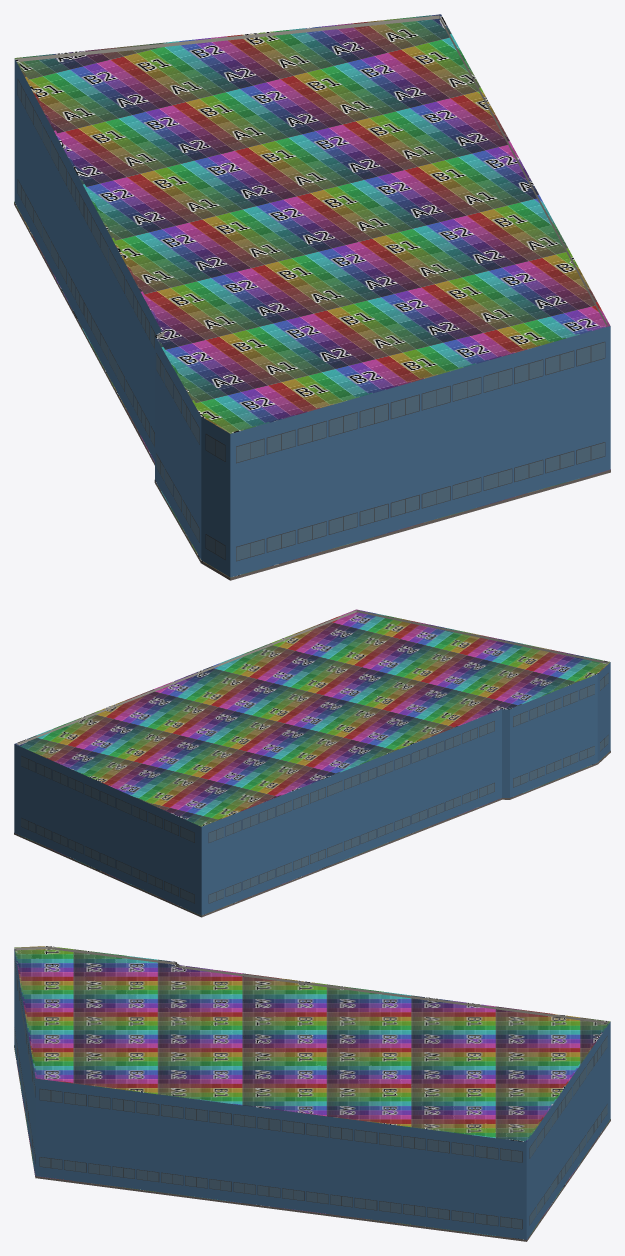
The picture shows the model from 3 angles, top to bottom: view 1: azimuth 30°, elevation 25°; view 2: azimuth 150°, elevation 25°; view 3: azimuth 270°, elevation 25°; orthographic projection. The views are drawn at different scales.
Visible parts, largest first — view 1: Z129 Корпусосборочный цех (предстап; view 2: Z129 Корпусосборочный цех (предстап; view 3: Z129 Корпусосборочный цех (предстап.
Boxes of the visible parts, x1=… form: Z129 Корпусосборочный цех (предстап: x1=14, y1=14, x2=610, y2=580; Z129 Корпусосборочный цех (предстап: x1=14, y1=609, x2=610, y2=917; Z129 Корпусосборочный цех (предстап: x1=14, y1=946, x2=610, y2=1241.
Size of the model in its own units: 110 by 26 by 141.
6 materials, 1 textured.
